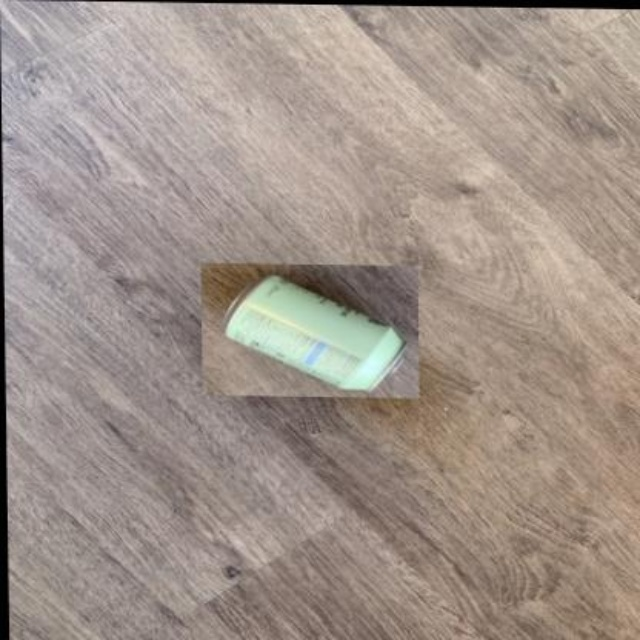trash: (226, 275, 403, 391)
